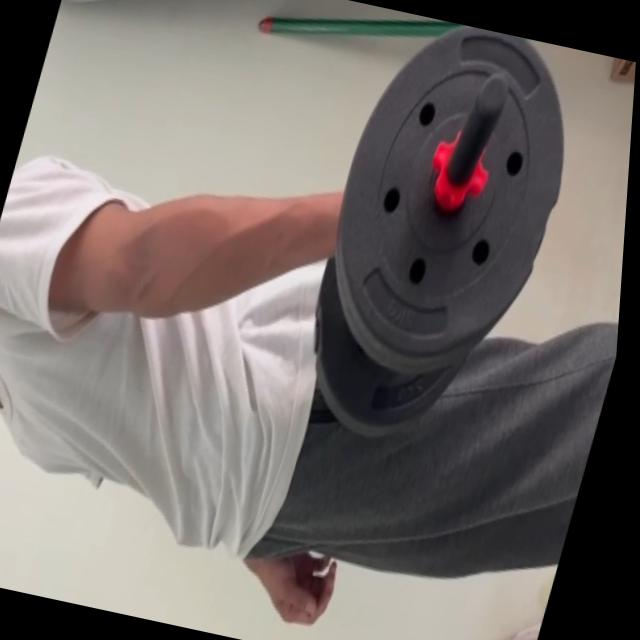dumbbell: (277, 16, 596, 458)
